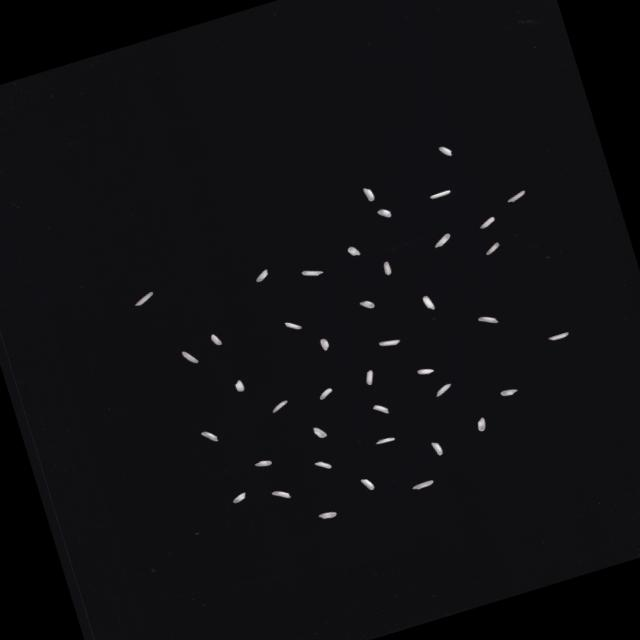Chalky: (130, 290, 154, 306), (430, 230, 451, 248), (299, 264, 322, 280), (180, 346, 198, 366), (198, 427, 218, 444), (475, 312, 497, 327), (376, 334, 399, 348), (270, 486, 290, 502), (267, 398, 288, 412), (432, 382, 452, 396), (476, 215, 496, 229), (410, 478, 433, 490), (504, 189, 525, 202), (371, 400, 388, 416), (282, 317, 300, 332), (419, 292, 434, 310), (251, 456, 271, 469), (310, 423, 326, 439), (427, 188, 450, 199), (360, 368, 374, 386), (312, 457, 330, 471), (315, 386, 333, 400), (546, 330, 568, 341), (472, 416, 487, 432), (436, 142, 451, 158), (482, 241, 499, 255), (357, 296, 374, 310), (379, 258, 392, 276), (373, 434, 394, 445), (252, 268, 268, 282), (344, 243, 360, 257), (376, 206, 392, 220), (360, 184, 374, 200), (358, 476, 374, 490), (316, 509, 336, 520), (497, 386, 516, 397), (414, 365, 433, 376), (430, 440, 442, 456), (230, 491, 246, 503), (208, 332, 221, 346), (232, 378, 244, 392), (317, 337, 329, 351)
